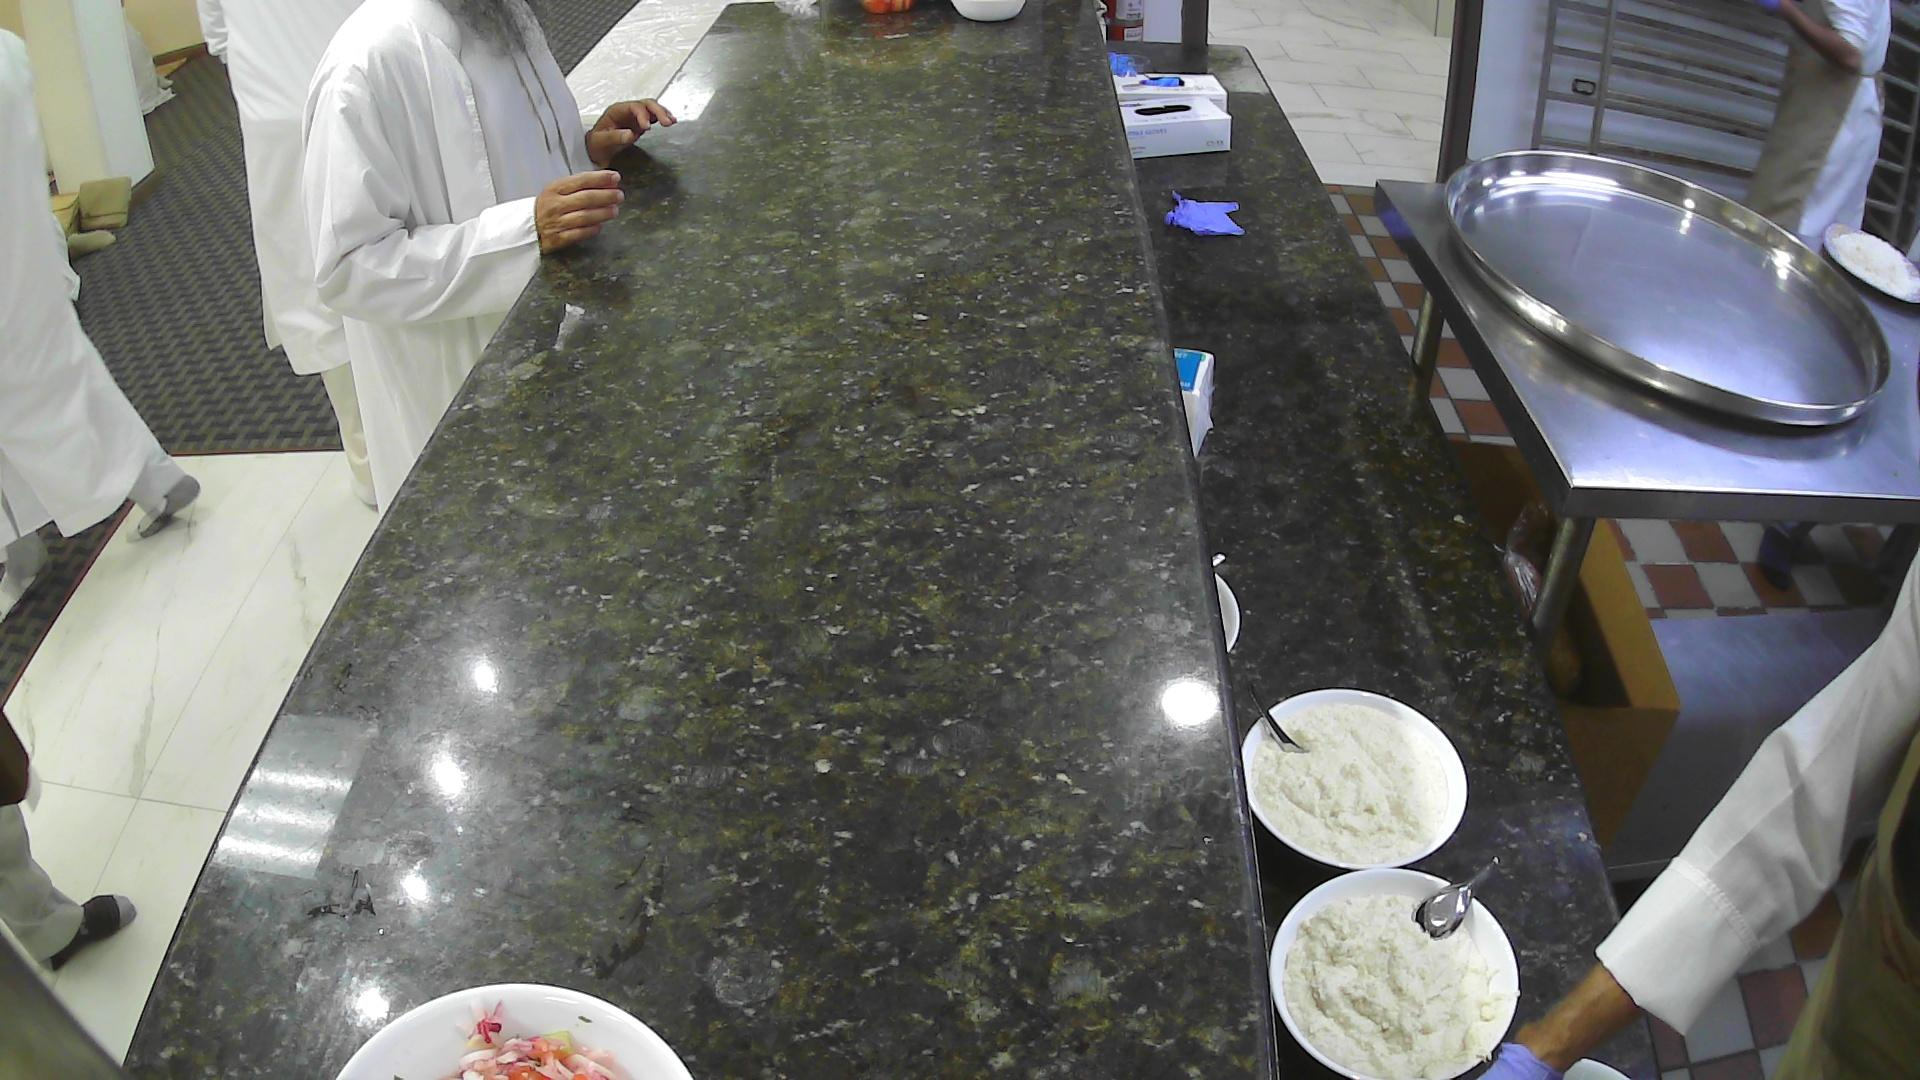thaal: (1441, 149, 1892, 433)
